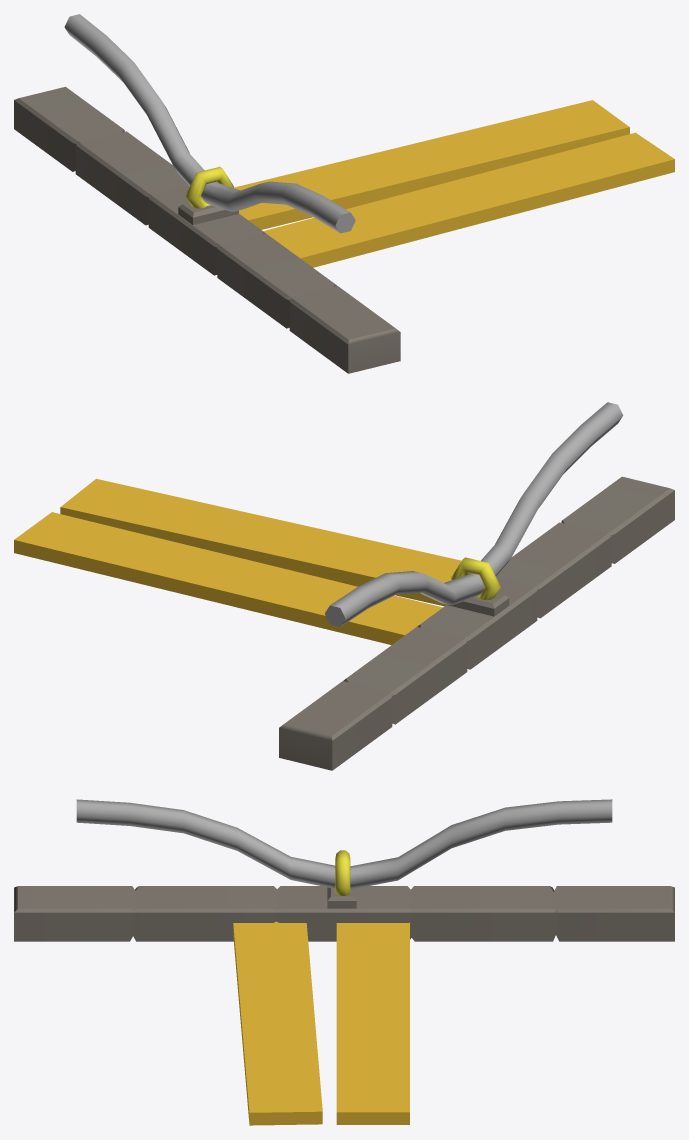
The model's file is Bridgeside.fbx.
3 renders of one model, top to bottom at view 1: azimuth 30°, elevation 25°; view 2: azimuth 150°, elevation 25°; view 3: azimuth 270°, elevation 25°, orthographic. The views are drawn at different scales.
Parts seen in each view (by area): view 1: RailringStone, pCube145, pCube126, RailRope, RailRing, RailringBelow; view 2: RailringStone, pCube126, pCube145, RailRope, RailRing, RailringBelow; view 3: RailringStone, pCube145, pCube126, RailRope, RailRing, RailringBelow.
Part boxes in pixels (<box>): RailringStone: <box>14,86,400,373</box>; pCube145: <box>263,132,674,267</box>; pCube126: <box>234,100,629,229</box>; RailRope: <box>64,14,355,233</box>; RailRing: <box>185,167,233,208</box>; RailringBelow: <box>178,202,238,224</box>; RailringStone: <box>279,476,674,770</box>; pCube126: <box>14,512,442,644</box>; pCube145: <box>60,478,461,606</box>; RailRope: <box>324,402,623,626</box>; RailRing: <box>451,557,500,600</box>; RailringBelow: <box>447,593,509,616</box>; RailringStone: <box>14,886,674,941</box>; pCube145: <box>233,921,322,1125</box>; pCube126: <box>336,922,409,1124</box>; RailRope: <box>76,799,612,889</box>; RailRing: <box>335,850,350,895</box>; RailringBelow: <box>327,887,356,908</box>.
Bounding box in the file's own units: 308 × 85.73 × 400.
